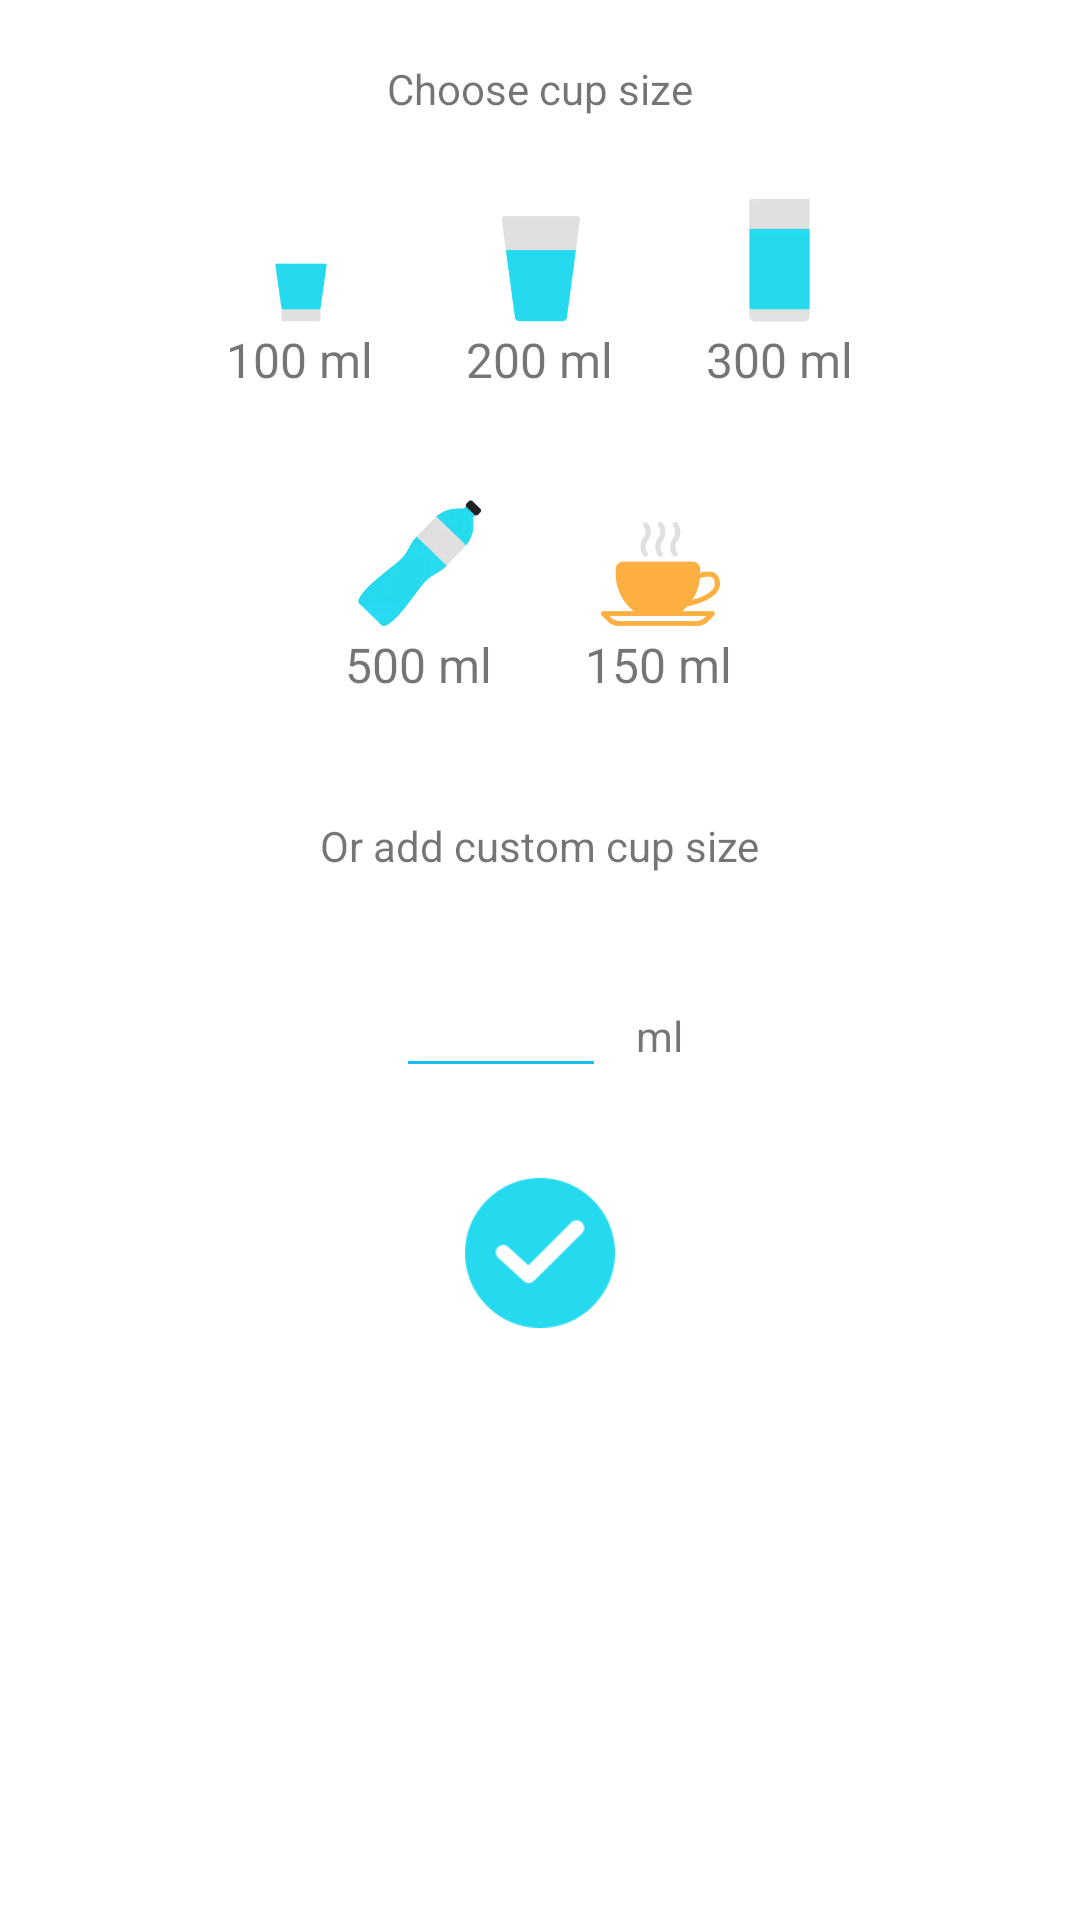

Screen size 1080x1920. Icon name, then its center in pixels as (x,y):
tick: (540,1253)
